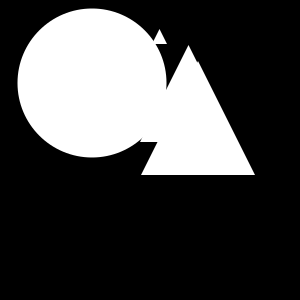rectangle: (17, 9, 166, 158)
triangle: (141, 61, 255, 175), (140, 45, 237, 142), (152, 29, 167, 44)
